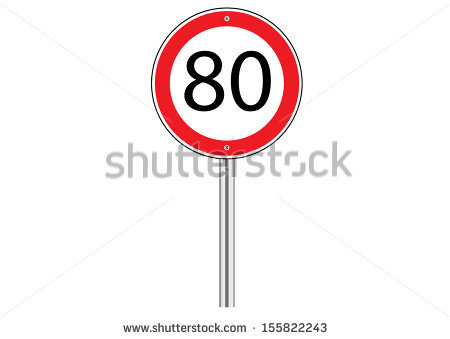Speed_limit_80km: (150, 8, 302, 159)
